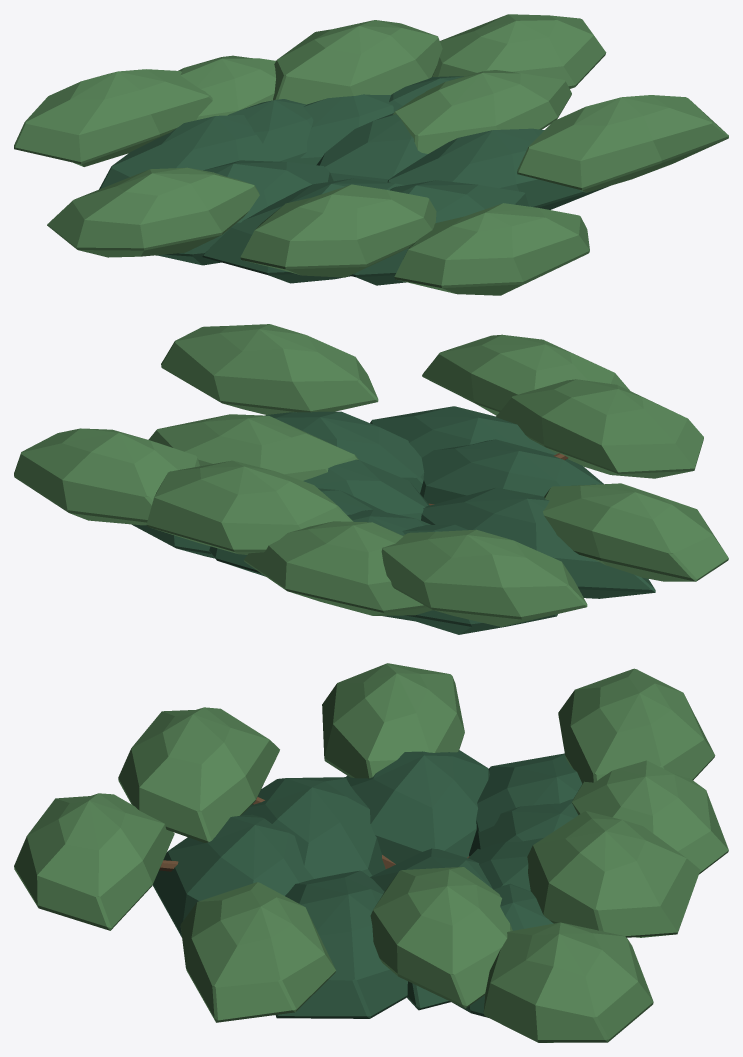
The model's file is b08_creeping_juniper.glb.
3 views of the same model, one above another, from view 1: azimuth 30°, elevation 25°; view 2: azimuth 150°, elevation 25°; view 3: azimuth 270°, elevation 25° (orthographic). The views are drawn at different scales.
Parts seen in each view (by area): view 1: b08_creeping_juniper; view 2: b08_creeping_juniper; view 3: b08_creeping_juniper.
Boxes of the visible parts, x1=… form: b08_creeping_juniper: x1=14, y1=14, x2=728, y2=295; b08_creeping_juniper: x1=14, y1=324, x2=728, y2=634; b08_creeping_juniper: x1=14, y1=663, x2=728, y2=1042.
Size of the model in its own units: 2.07 by 0.4236 by 1.74.
